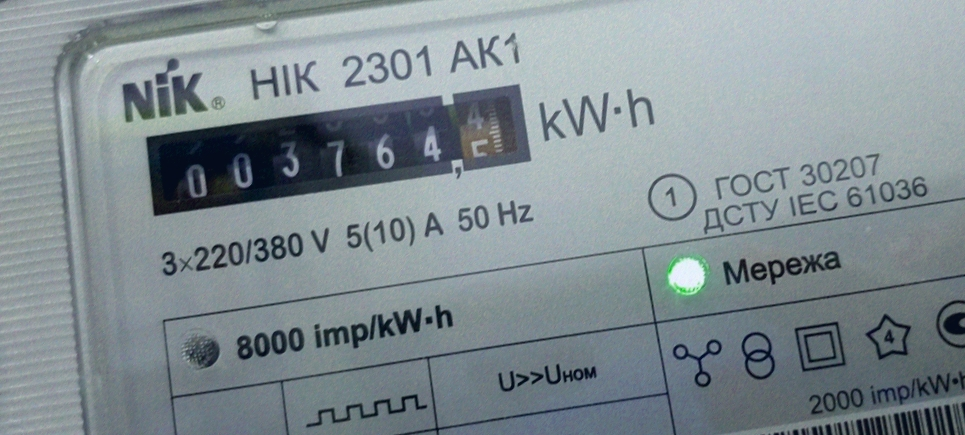0: (181, 159, 210, 200), (227, 148, 255, 190)
3: (274, 137, 302, 180)
4: (418, 122, 443, 164), (461, 97, 487, 132)
5: (467, 135, 491, 160)
6: (371, 130, 397, 171)
7: (322, 135, 351, 179)
screen: (125, 64, 548, 232)
